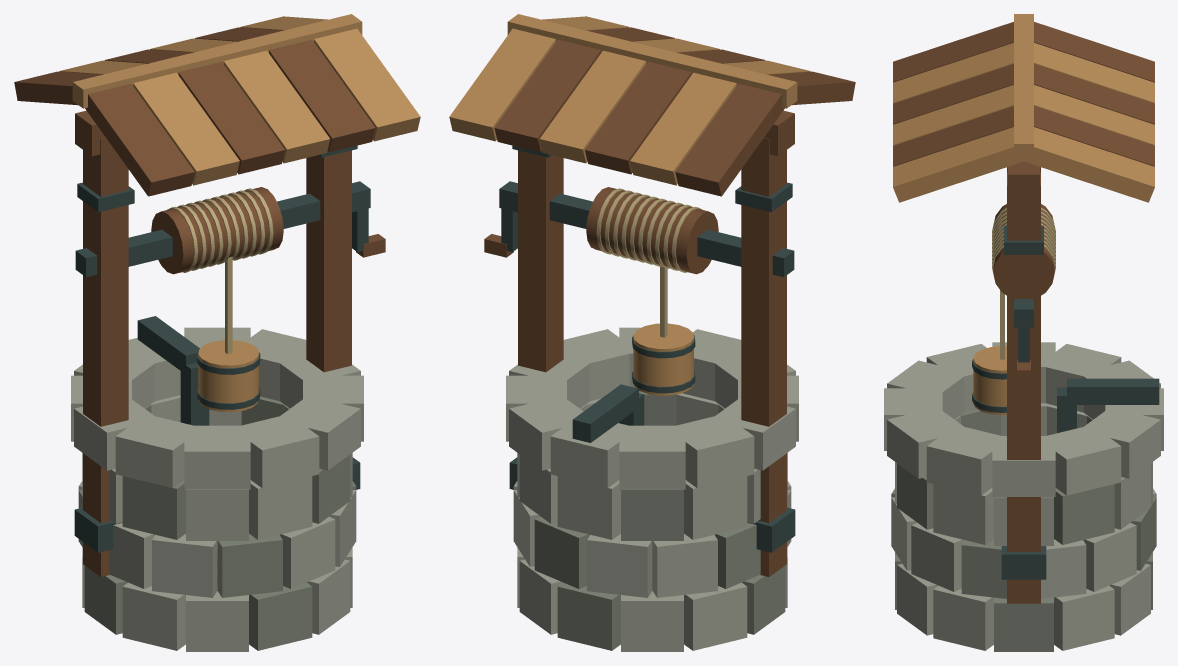
Rendered from well.glb.
3 renders of one model, left to right at view 1: azimuth 30°, elevation 25°; view 2: azimuth 150°, elevation 25°; view 3: azimuth 270°, elevation 25°, orthographic. The views are drawn at different scales.
Parts seen in each view (by area): view 1: _MeshInstance3D_52, _MeshInstance3D_55, _MeshInstance3D_65, _MeshInstance3D_66, _MeshInstance3D_68, _MeshInstance3D_67, _MeshInstance3D_69, _MeshInstance3D_70, _MeshInstance3D_73, _MeshInstance3D_71, _MeshInstance3D_49, _MeshInstance3D_38 (+42 smaller); view 2: _MeshInstance3D_52, _MeshInstance3D_55, _MeshInstance3D_59, _MeshInstance3D_60, _MeshInstance3D_62, _MeshInstance3D_61, _MeshInstance3D_63, _MeshInstance3D_64, _MeshInstance3D_73, _MeshInstance3D_71, _MeshInstance3D_46, _MeshInstance3D_45 (+39 smaller); view 3: _MeshInstance3D_55, _MeshInstance3D_64, _MeshInstance3D_70, _MeshInstance3D_40, _MeshInstance3D_42, _MeshInstance3D_4, _MeshInstance3D_6, _MeshInstance3D_43, _MeshInstance3D_39, _MeshInstance3D_41, _MeshInstance3D_5, _MeshInstance3D_28 (+41 smaller).
Boxes of the visible parts, left/top/right/bottom form: _MeshInstance3D_52: left=83, top=137, right=128, bottom=576; _MeshInstance3D_55: left=306, top=150, right=351, bottom=372; _MeshInstance3D_65: left=85, top=83, right=194, bottom=196; _MeshInstance3D_66: left=133, top=72, right=239, bottom=185; _MeshInstance3D_68: left=223, top=50, right=330, bottom=163; _MeshInstance3D_67: left=178, top=61, right=284, bottom=174; _MeshInstance3D_69: left=269, top=39, right=375, bottom=152; _MeshInstance3D_70: left=314, top=28, right=420, bottom=141; _MeshInstance3D_73: left=151, top=187, right=283, bottom=274; _MeshInstance3D_71: left=72, top=14, right=362, bottom=108; _MeshInstance3D_49: left=184, top=425, right=250, bottom=489; _MeshInstance3D_38: left=236, top=416, right=319, bottom=488; _MeshInstance3D_52: left=741, top=137, right=786, bottom=576; _MeshInstance3D_55: left=518, top=150, right=563, bottom=372; _MeshInstance3D_59: left=675, top=83, right=784, bottom=196; _MeshInstance3D_60: left=630, top=72, right=736, bottom=185; _MeshInstance3D_62: left=539, top=50, right=646, bottom=163; _MeshInstance3D_61: left=585, top=61, right=691, bottom=174; _MeshInstance3D_63: left=494, top=39, right=600, bottom=152; _MeshInstance3D_64: left=449, top=28, right=555, bottom=141; _MeshInstance3D_73: left=586, top=187, right=718, bottom=274; _MeshInstance3D_71: left=507, top=14, right=797, bottom=108; _MeshInstance3D_46: left=667, top=416, right=754, bottom=488; _MeshInstance3D_45: left=619, top=425, right=685, bottom=489; _MeshInstance3D_55: left=1007, top=172, right=1040, bottom=603; _MeshInstance3D_64: left=1026, top=127, right=1154, bottom=202; _MeshInstance3D_70: left=893, top=127, right=1021, bottom=202; _MeshInstance3D_40: left=926, top=427, right=1000, bottom=495; _MeshInstance3D_42: left=1047, top=427, right=1121, bottom=495; _MeshInstance3D_4: left=933, top=586, right=993, bottom=650; _MeshInstance3D_6: left=1054, top=586, right=1114, bottom=650; _MeshInstance3D_43: left=1079, top=407, right=1160, bottom=478; _MeshInstance3D_39: left=887, top=407, right=968, bottom=478; _MeshInstance3D_41: left=992, top=436, right=1055, bottom=496; _MeshInstance3D_5: left=994, top=597, right=1053, bottom=651; _MeshInstance3D_28: left=933, top=484, right=993, bottom=544.
Bounding box in the file's own units: 1.09 × 1.86 × 0.91.
